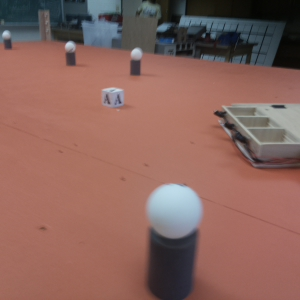obstacle: (140, 182, 204, 298), (129, 46, 142, 77), (64, 41, 78, 69), (2, 29, 14, 52)
side: (210, 107, 267, 162)
